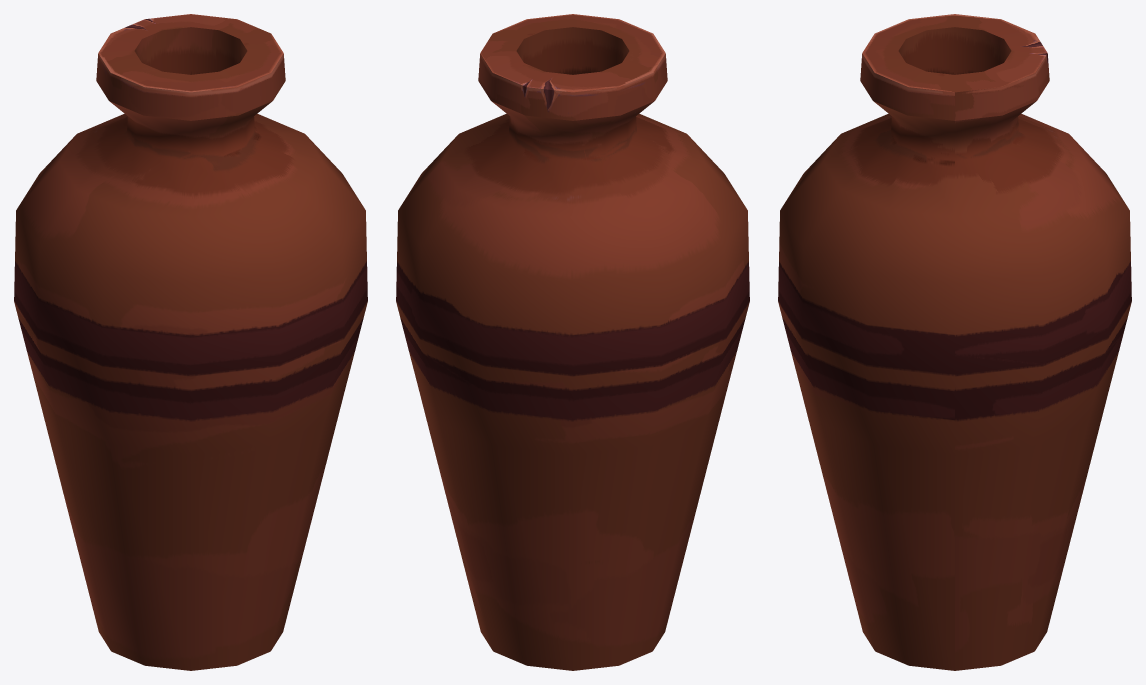
File: Vase_Normalgltf.gltf
3 views of the same model, side by side, from view 1: azimuth 30°, elevation 25°; view 2: azimuth 150°, elevation 25°; view 3: azimuth 270°, elevation 25° (orthographic).
Parts seen in each view (by area): view 1: SM_PROP_pot_dungeon_10; view 2: SM_PROP_pot_dungeon_10; view 3: SM_PROP_pot_dungeon_10.
Part boxes in pixels (x1,y1,x2,y2): SM_PROP_pot_dungeon_10: [14, 14, 367, 670]; SM_PROP_pot_dungeon_10: [396, 14, 749, 670]; SM_PROP_pot_dungeon_10: [778, 14, 1131, 670].
Bounding box in the file's own units: 0.4054 × 0.7344 × 0.4054.
Materials: 1 (1 with a texture image).
